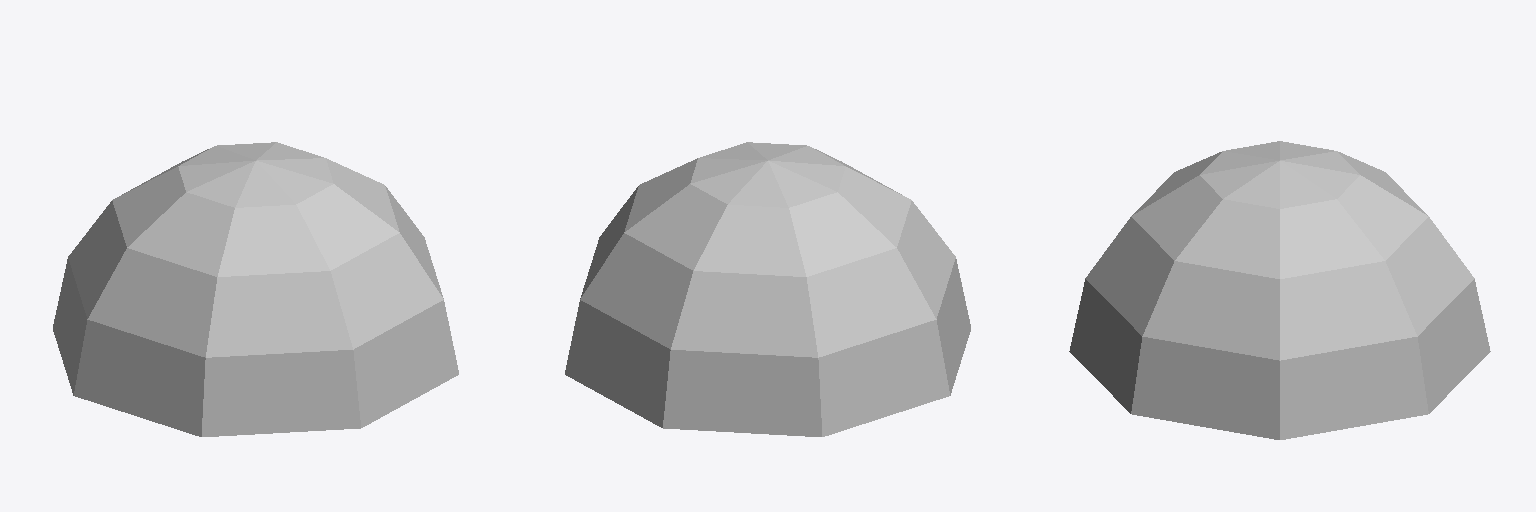
File: bush.obj
The picture shows the model from 3 angles: view 1: azimuth 30°, elevation 25°; view 2: azimuth 150°, elevation 25°; view 3: azimuth 270°, elevation 25°; orthographic projection.
Bounding box in the file's own units: 2 × 1 × 2.